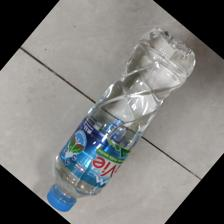Lavie: (45, 25, 197, 215)
